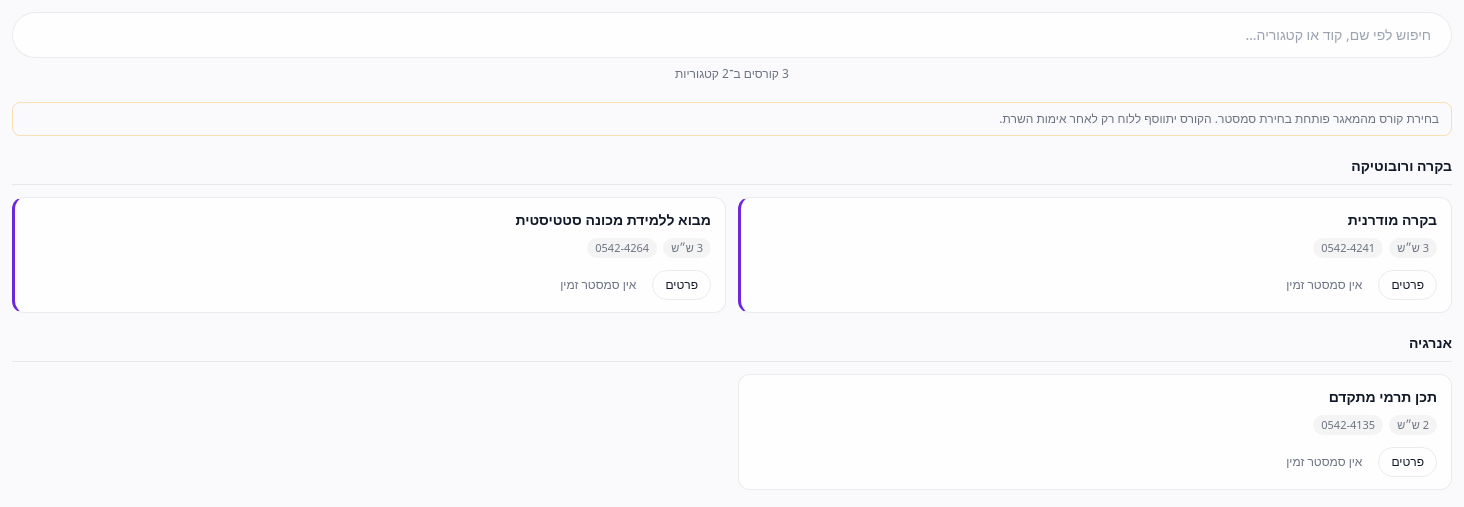
Scenario: UnifiedCourseRepository › announces a clear empty result in RTL
The width and height of the screenshot is (1464, 507).
Type "קורס שלא קיים" into the search field.
click(732, 35); type("קורס שלא קיים")  # box [12, 12, 1452, 58]
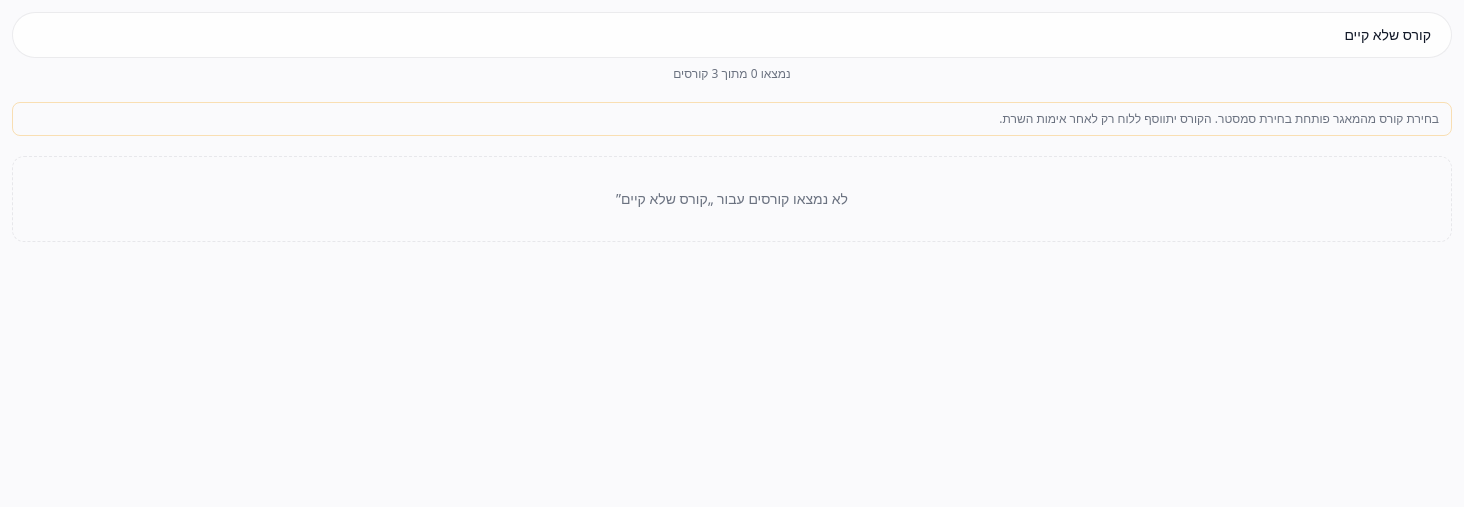
Expected: the text "לא נמצאו קורסים עבור „קורס שלא קיים”" is shown, [12, 156, 1452, 242]
